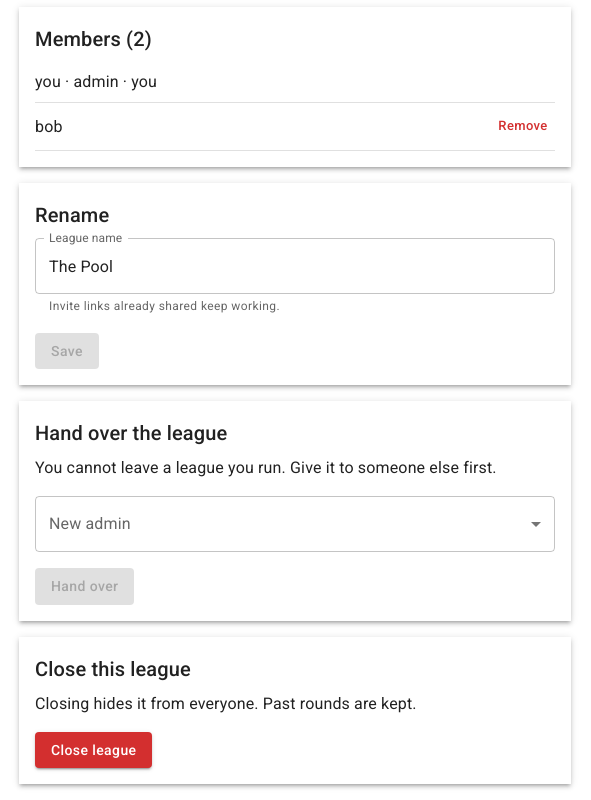
Test: handing the league on › to a member you choose
(page scrolled)
Expected: the button "Hand over" is disabled, [35,568,134,605]
Step 1. Click the dropdown named "New admin" → (295, 524), box [35,496,555,552]
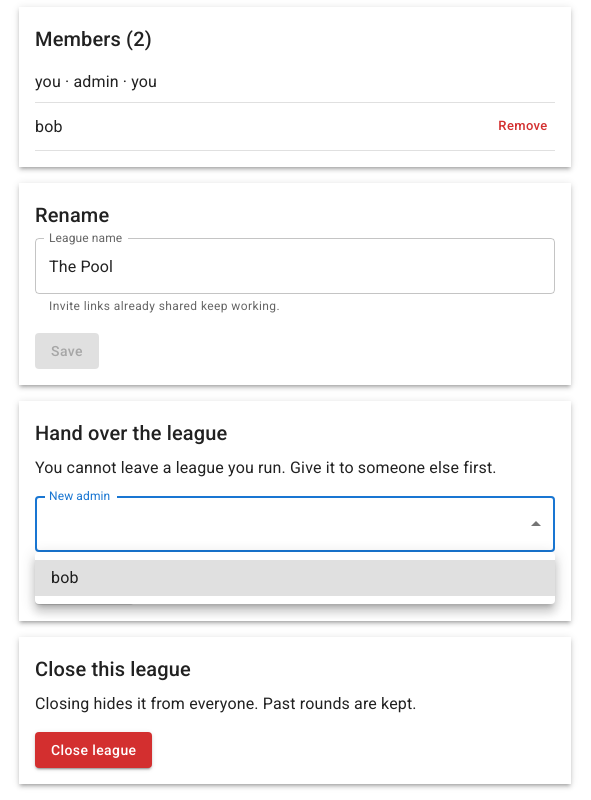
Step 2. Click the option "bob" → (65, 578), box [35,560,555,596]
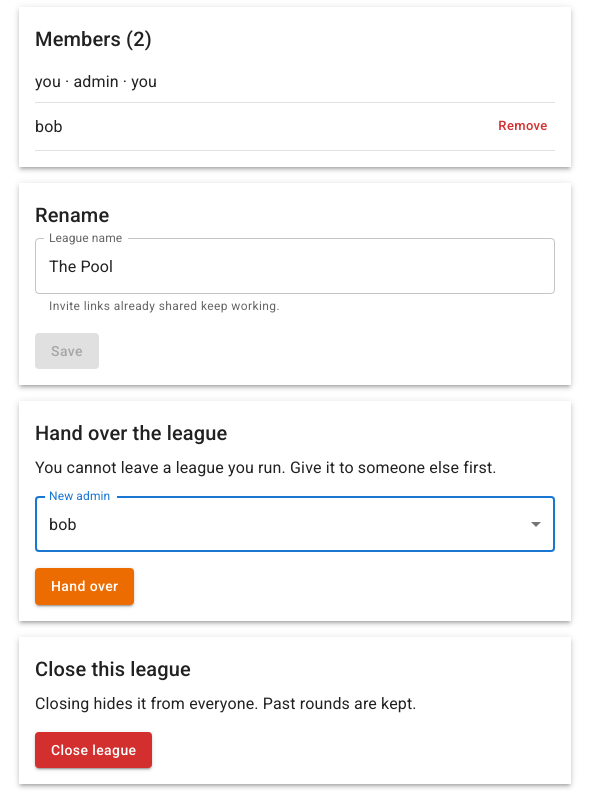
Step 3. Click the button "Hand over" → (85, 587), box [35,568,134,605]
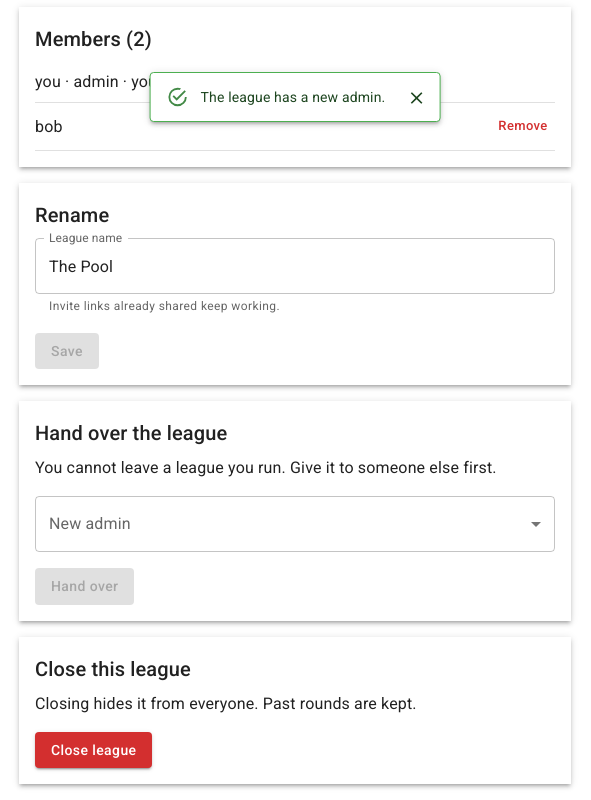
Expected: the text "The league has a new admin." is shown, [201,89,385,105]
